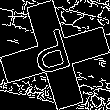P_S: (30, 26, 80, 84)
